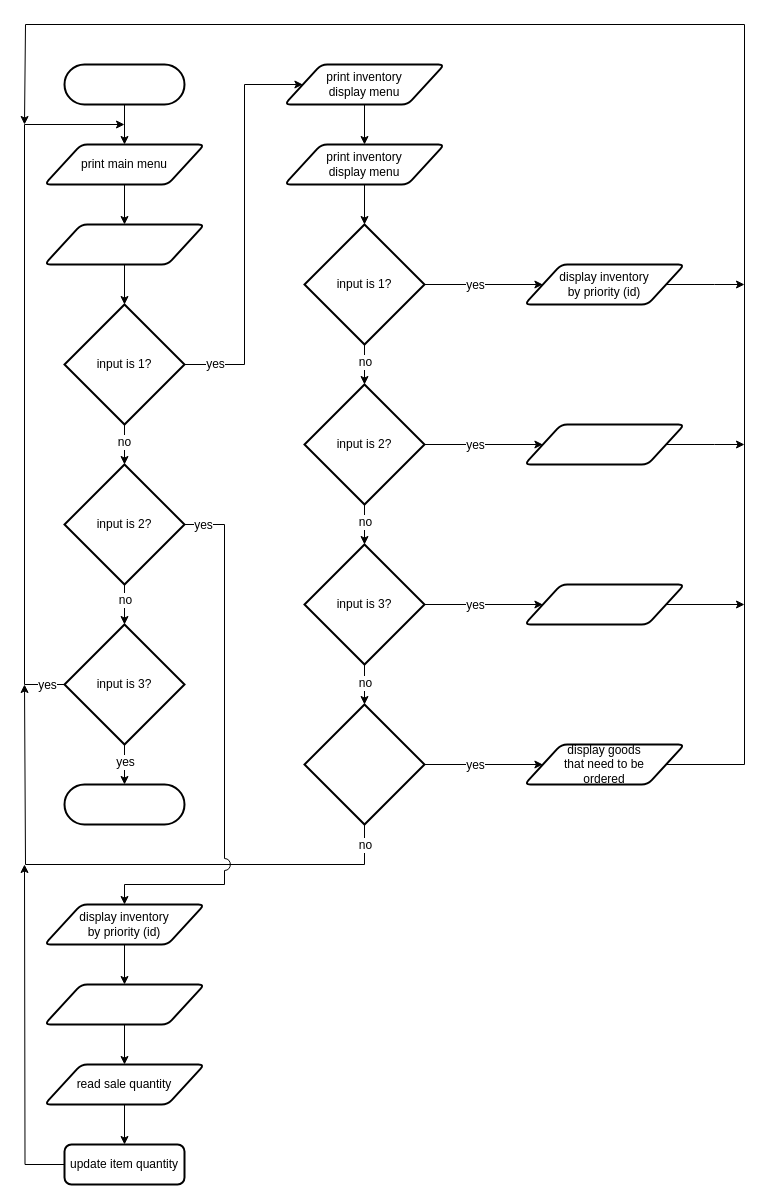
This 770x1203 diagram has some shape labels left out. The centre of each missing label's shape, as x and y in pixels:
display finished goods: point 604,444
display ordering goods: point 604,604
END: point 124,804
input is 4?: point 364,764
read input: point 124,244
read item id: point 124,1004
START: point 124,84
